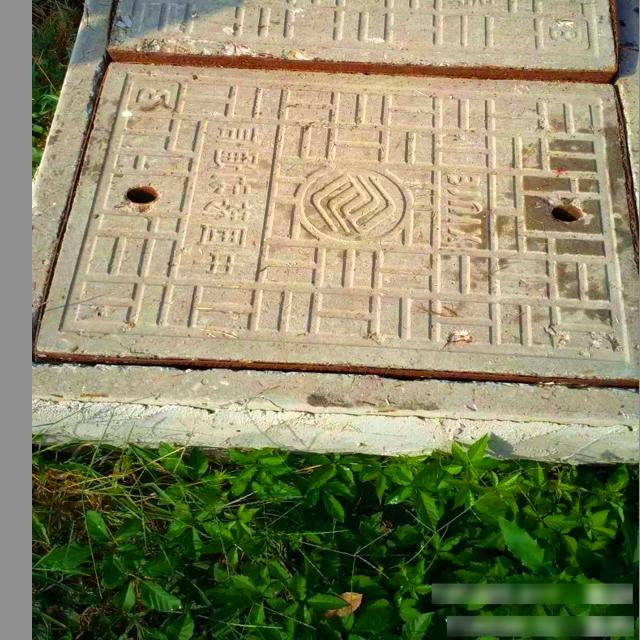uncovered: (32, 0, 639, 458)
